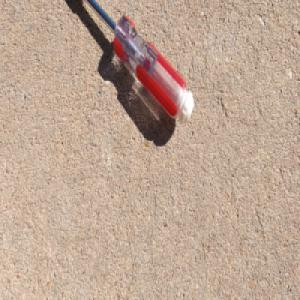Screwdriver: (79, 0, 195, 127)
